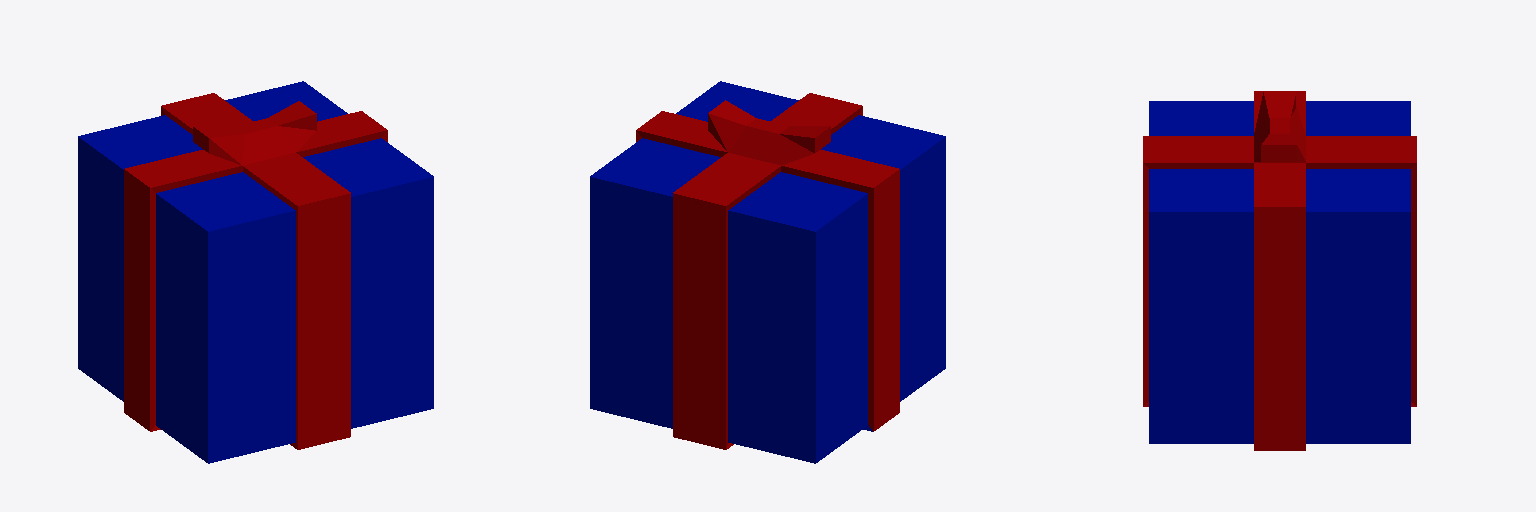
The model's file is PresentBlue.obj.
3 renders of one model, left to right at view 1: azimuth 30°, elevation 25°; view 2: azimuth 150°, elevation 25°; view 3: azimuth 270°, elevation 25°, orthographic.
Parts seen in each view (by area): view 1: Cube_Cube.001; view 2: Cube_Cube.001; view 3: Cube_Cube.001.
Part boxes in pixels (left/top/right/bottom): Cube_Cube.001: left=78, top=81, right=433, bottom=463; Cube_Cube.001: left=590, top=81, right=945, bottom=463; Cube_Cube.001: left=1143, top=91, right=1416, bottom=450.
Bounding box in the file's own units: 1.24 × 1.38 × 1.24.